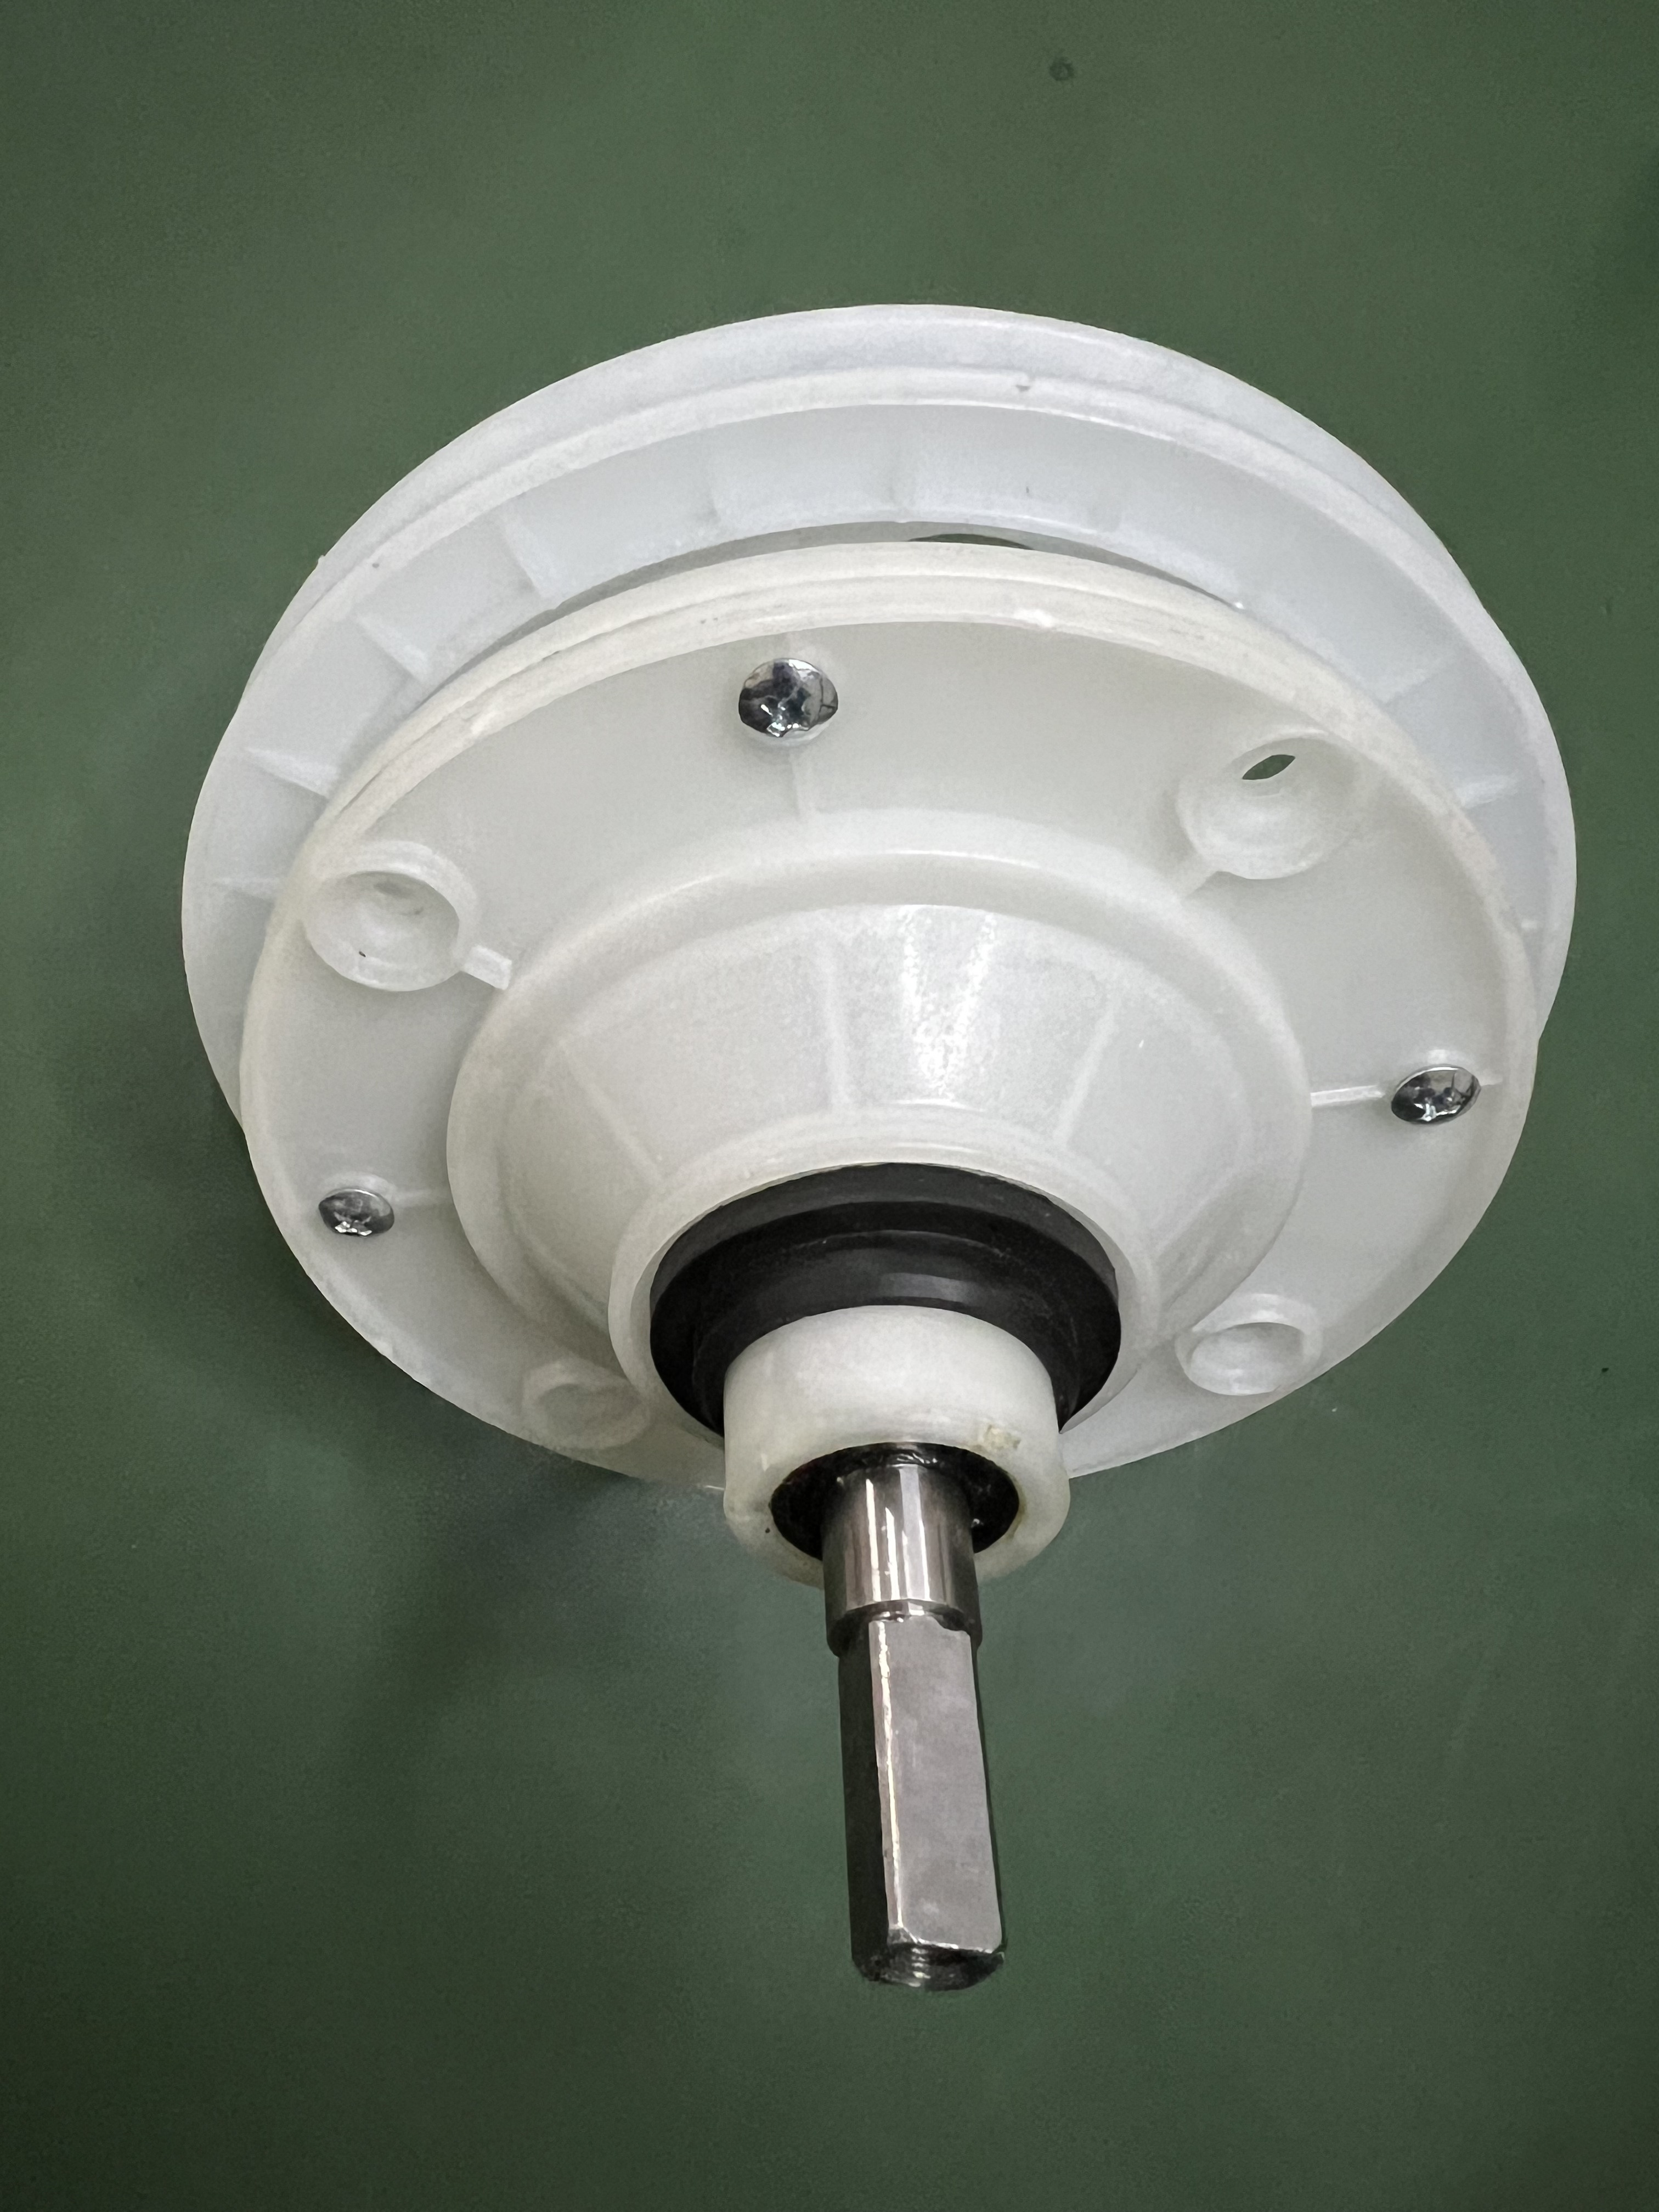gear_box_ovul: (164, 294, 1593, 1993)
